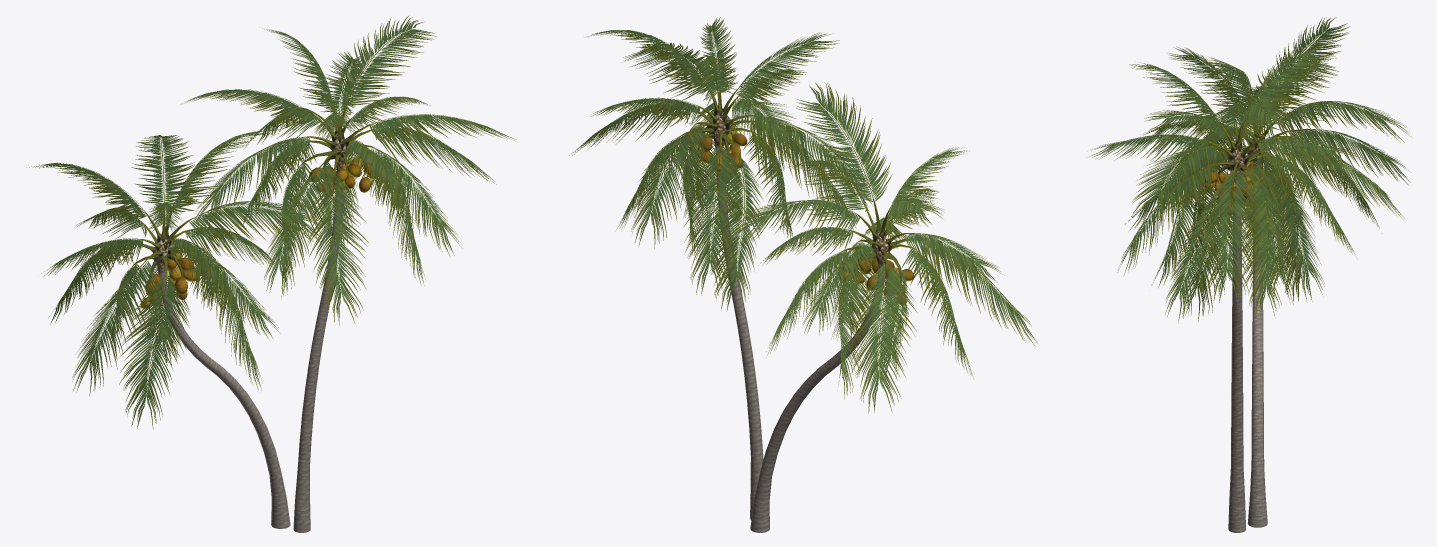
File: coconut_palm.glb
3 renders of one model, left to right at view 1: azimuth 30°, elevation 25°; view 2: azimuth 150°, elevation 25°; view 3: azimuth 270°, elevation 25°, orthographic. The views are drawn at different scales.
Parts seen in each view (by area): view 1: coconut_palm; view 2: coconut_palm; view 3: coconut_palm.
Boxes of the visible parts, <box> form: coconut_palm: <box>29,15,515,532</box>; coconut_palm: <box>569,17,1037,532</box>; coconut_palm: <box>1089,17,1410,532</box>.
Size of the model in its own units: 13.03 by 13 by 8.32.
Materials: 5 (5 with a texture image).
